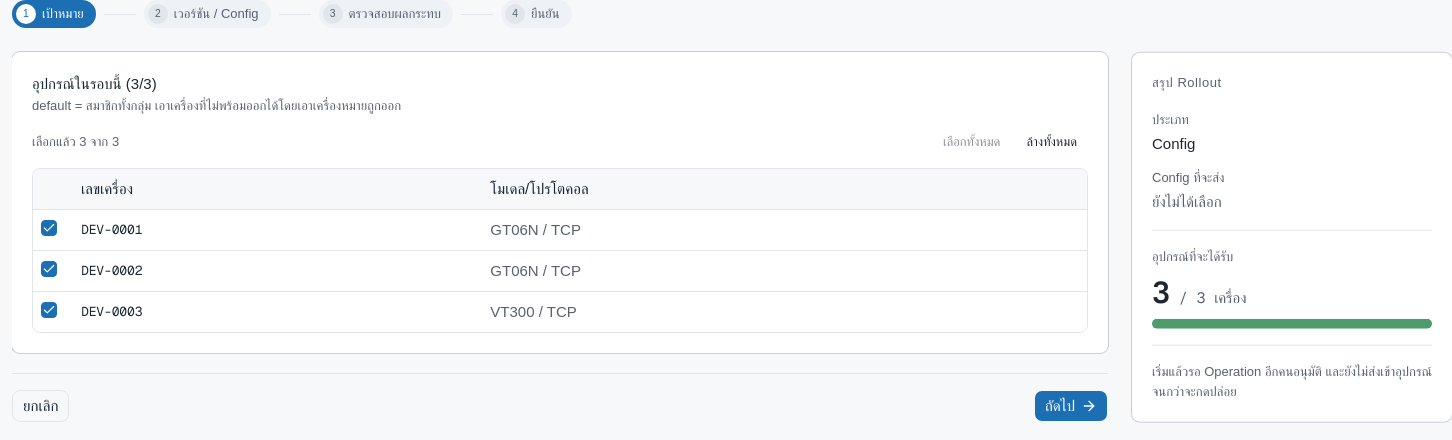
Test: CampaignRolloutCreateForm: wizard 4 ขั้น › ยังไม่เลือก Config: ไปขั้นตรวจสอบผลกระทบไม่ได้ และบอกให้เลือก
Click the button "ถัดไป".
click(1071, 406)  # box [1034,390,1108,422]
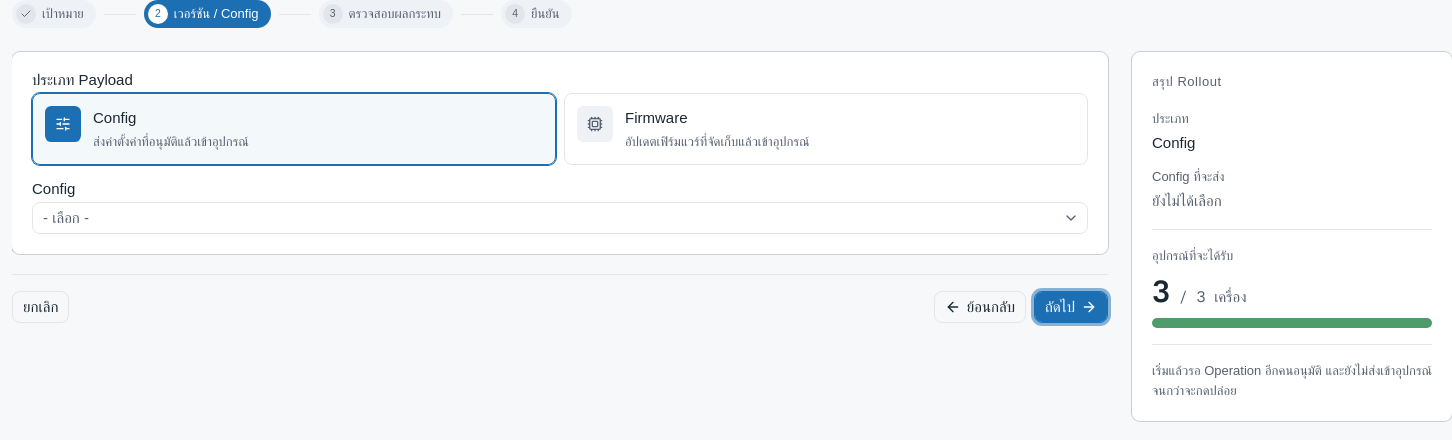
Click the button "ถัดไป".
click(1071, 307)  # box [1034,291,1108,323]
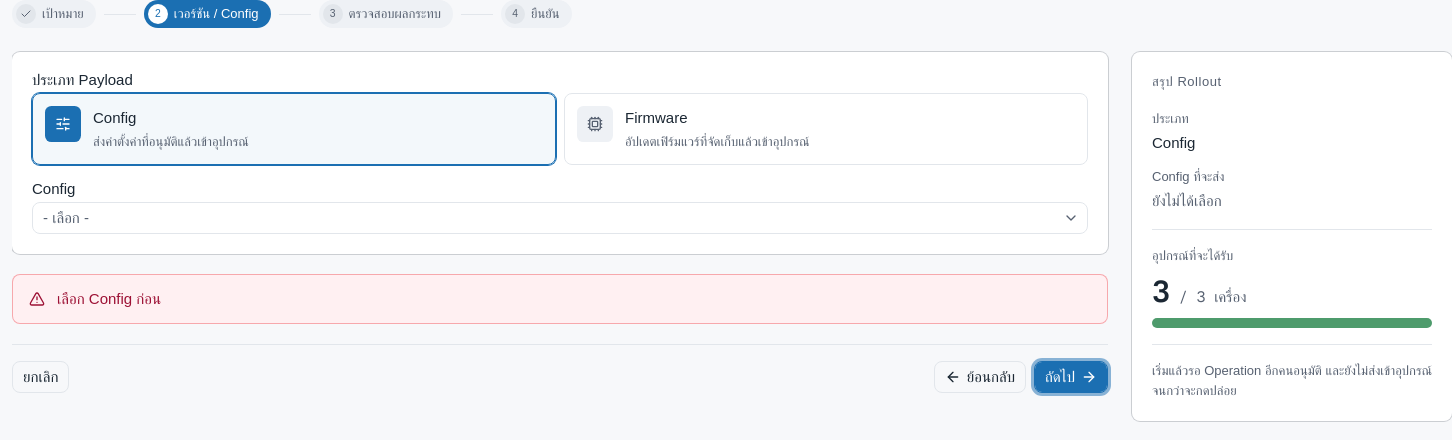
Expected: the text "เลือก Config ก่อน" is shown, [57,290,161,307]
